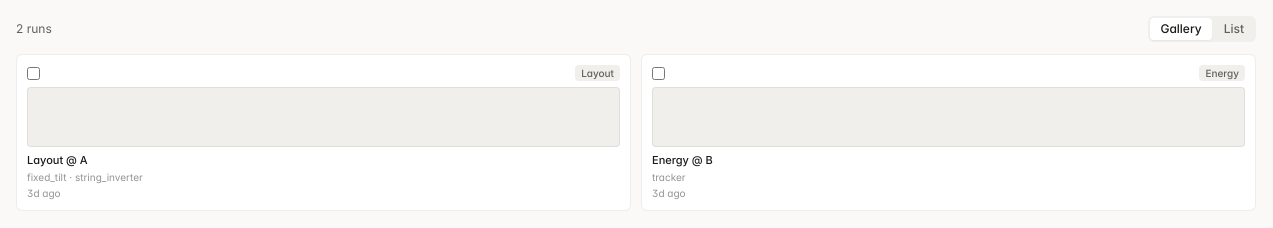
it: RunsList — populated › clicking a checkbox toggles multi-select WITHOUT changing the active selection
Click the checkbox named "Select run Layout @ A" at [34, 74], box [27,67,40,80]
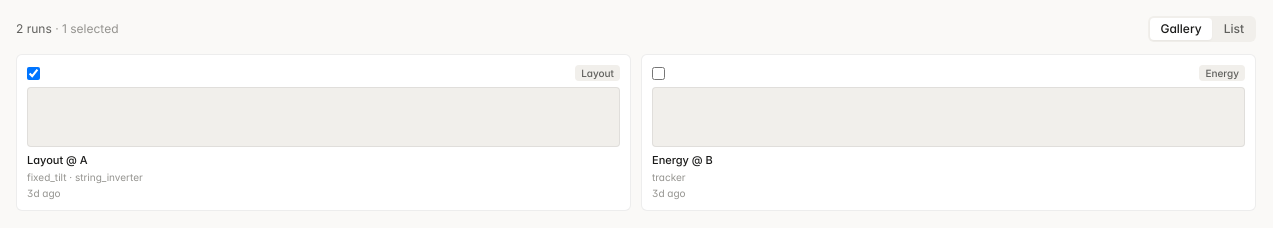
Check: the text "· 1 selected" is shown, box [52,21,118,36]
Click the checkbox named "Select run Layout @ A" at [34, 74], box [27,67,40,80]
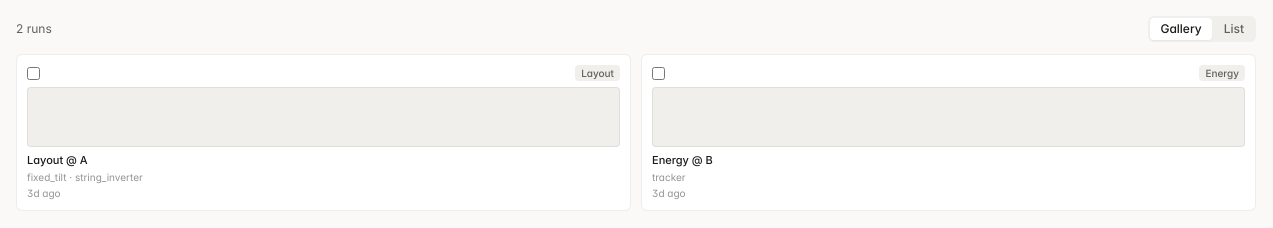
Check: the text "selected" is gone
